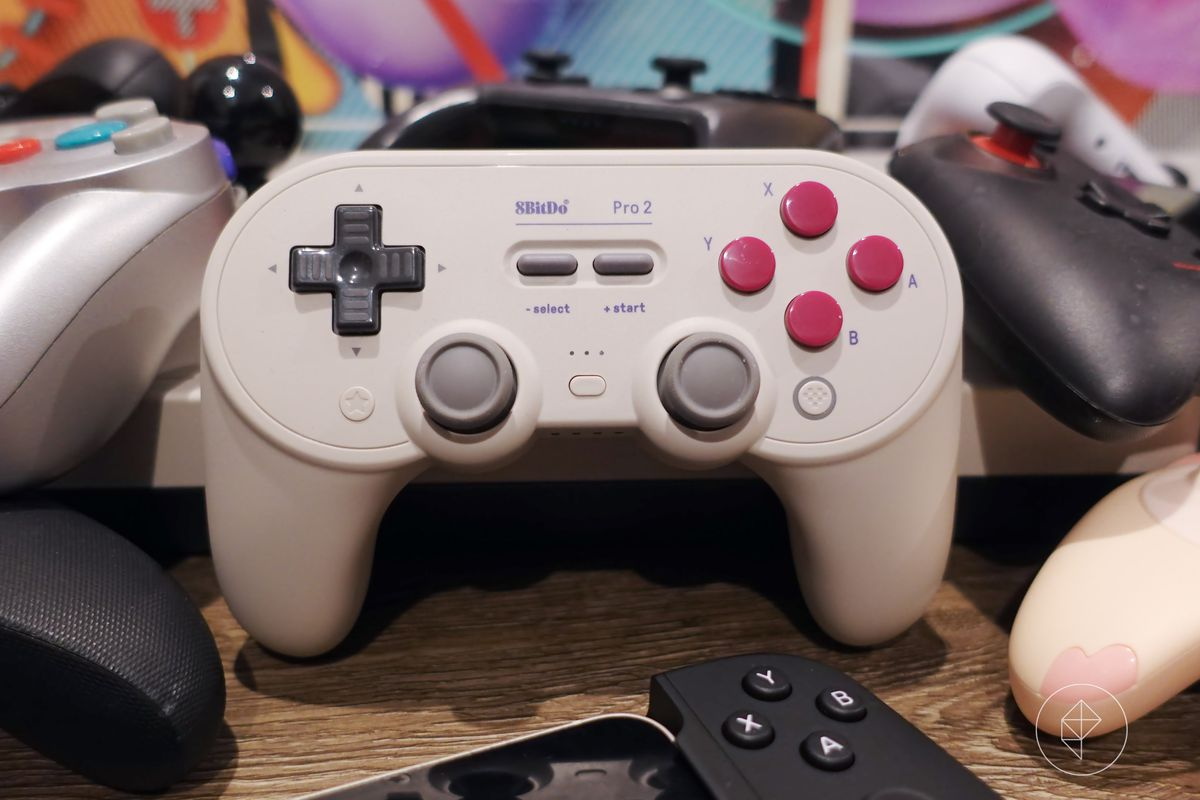controller: (197, 149, 965, 657)
